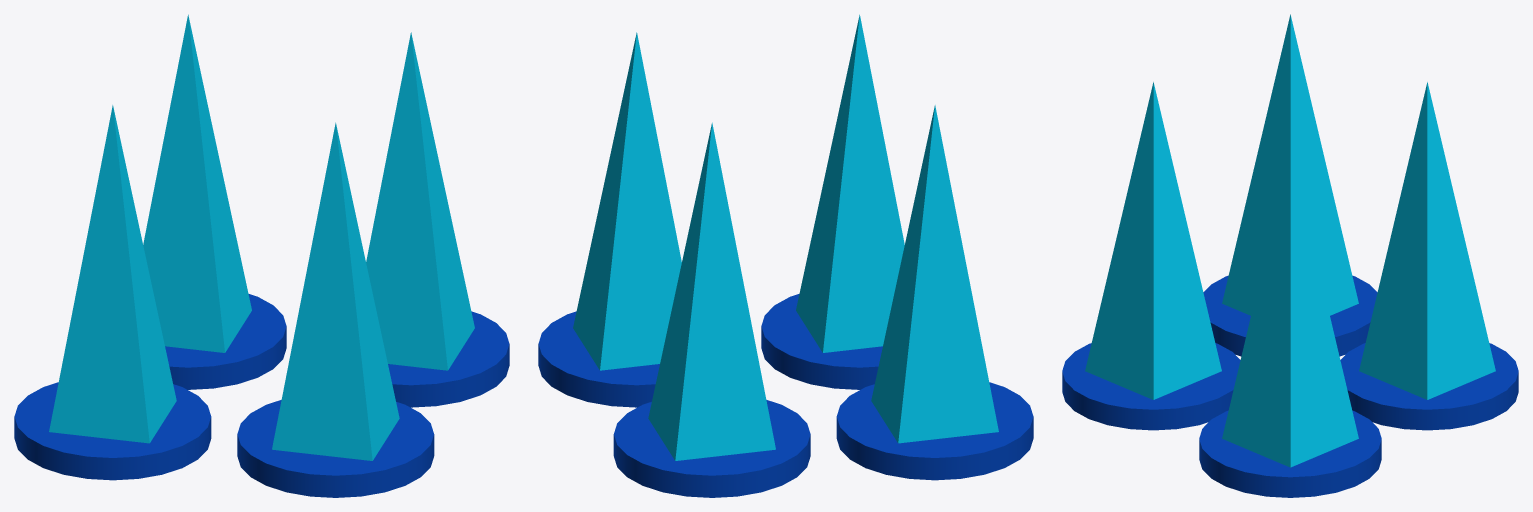
The model's file is Thorn.fbx.
The picture shows the model from 3 angles, left to right: view 1: azimuth 30°, elevation 25°; view 2: azimuth 150°, elevation 25°; view 3: azimuth 270°, elevation 25°; orthographic projection. The views are drawn at different scales.
Parts seen in each view (by area): view 1: Cone014, Cone015, Cone013, Cone016; view 2: Cone014, Cone016, Cone013, Cone015; view 3: Cone013, Cone016, Cone015, Cone014.
Part boxes in pixels (box(x1,y1,x2,y2)): Cone014: box(14, 105, 211, 480); Cone015: box(237, 122, 434, 497); Cone013: box(366, 32, 509, 407); Cone016: box(143, 14, 286, 389); Cone014: box(836, 105, 1033, 480); Cone016: box(613, 122, 810, 497); Cone013: box(538, 32, 681, 407); Cone015: box(761, 14, 904, 389); Cone013: box(1199, 149, 1381, 497); Cone016: box(1340, 82, 1518, 430); Cone015: box(1062, 82, 1240, 430); Cone014: box(1203, 14, 1377, 356).
Bounding box in the file's own units: 11 × 7.5 × 10.
